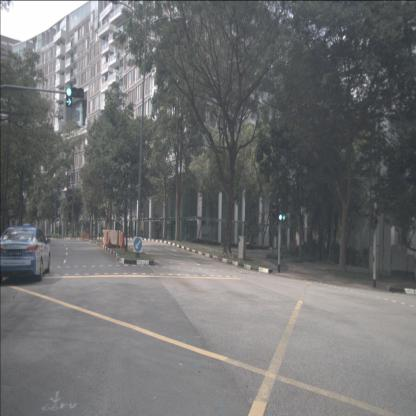movable_object-barrier: (103, 230, 121, 247), (103, 230, 110, 249), (119, 232, 126, 248)
movable_object-trafficcone: (108, 231, 112, 246)
vehicle-car: (0, 225, 51, 286)
